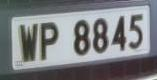4: (110, 10, 129, 58)
5: (127, 10, 146, 55)
8: (71, 16, 93, 62), (90, 13, 111, 60)
P: (38, 17, 63, 66)
W: (17, 20, 40, 67)
